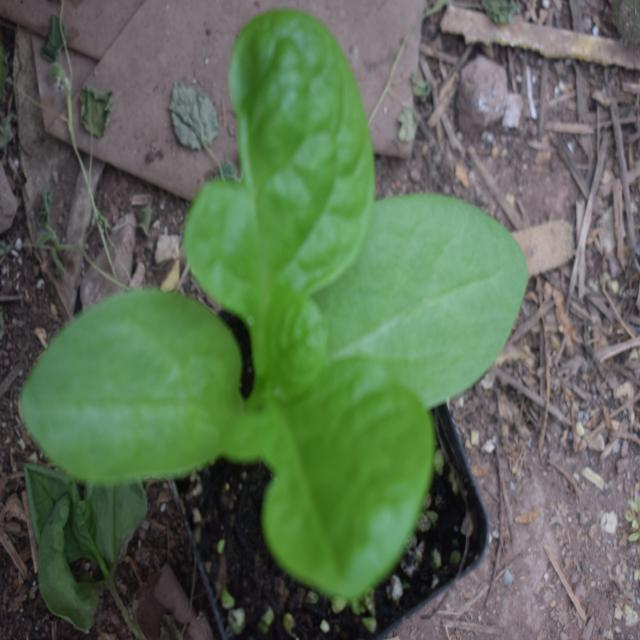Ceylon spinach: (58, 49, 526, 571)
